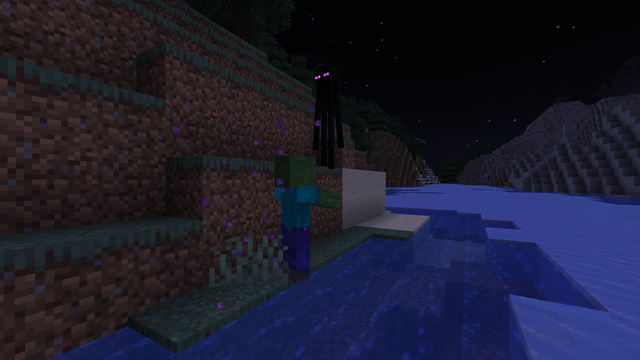endermens: (313, 59, 341, 167)
zombies: (269, 158, 319, 287)
